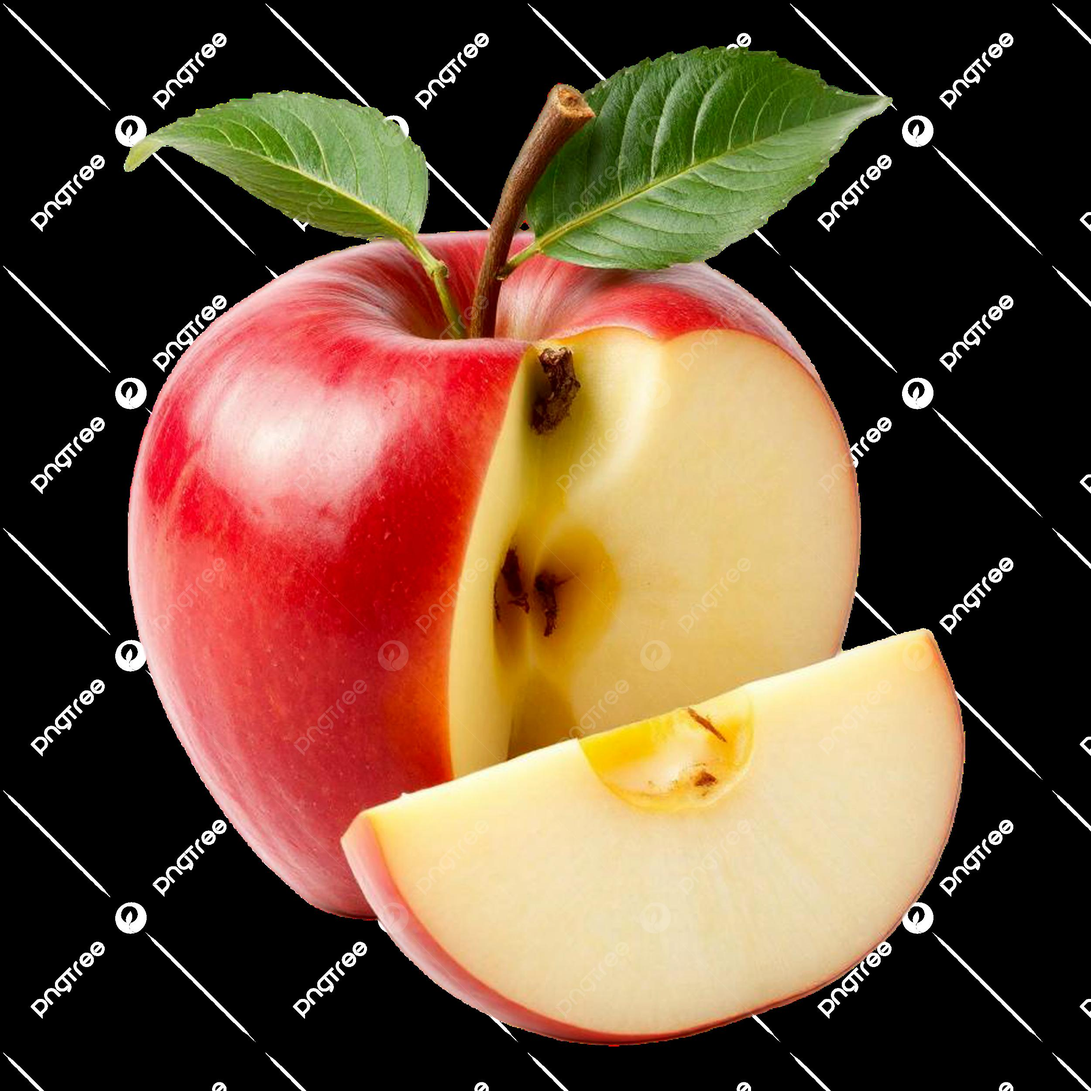apples: (89, 35, 987, 1021)
